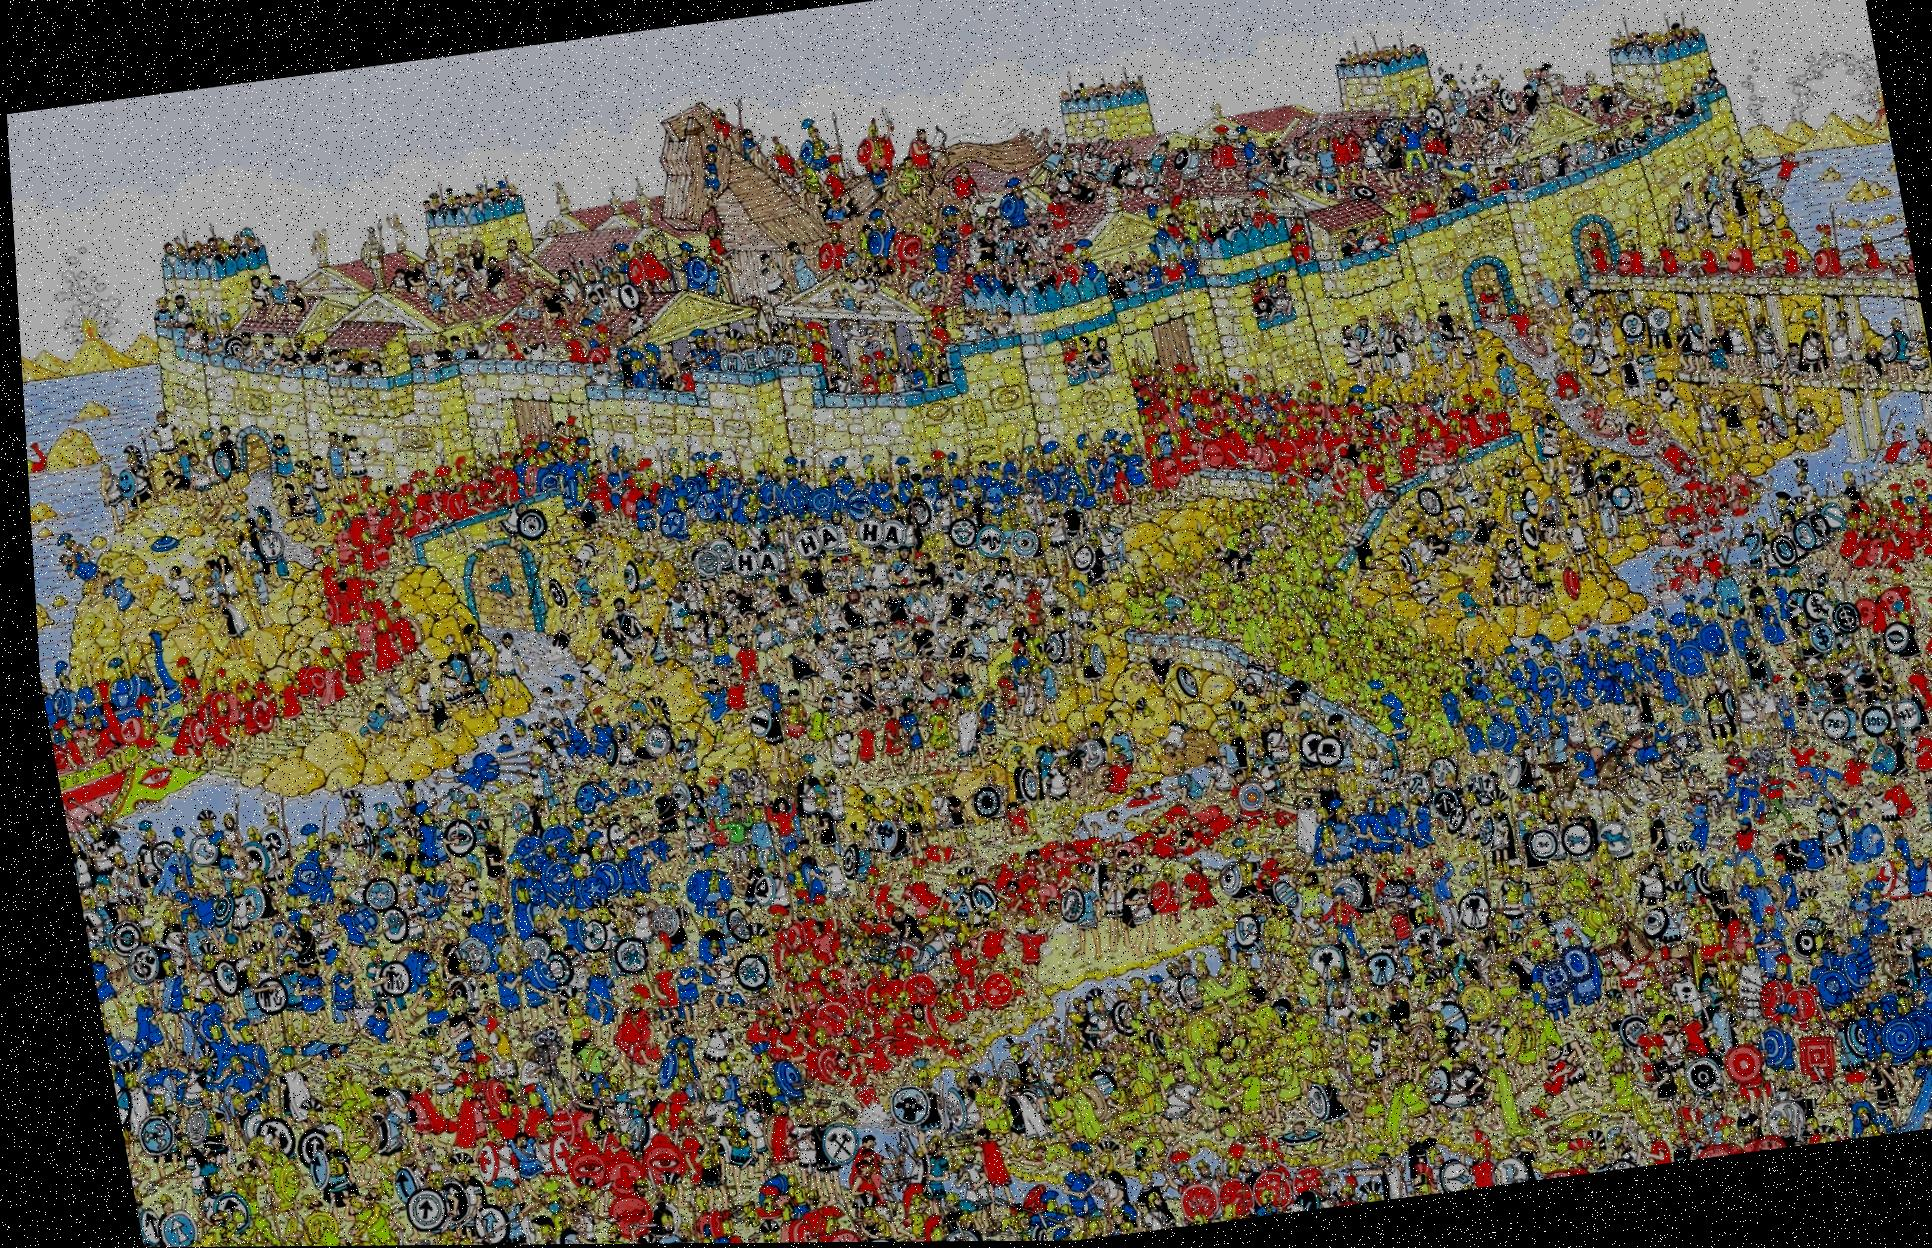waldo: (401, 1142, 421, 1165)
